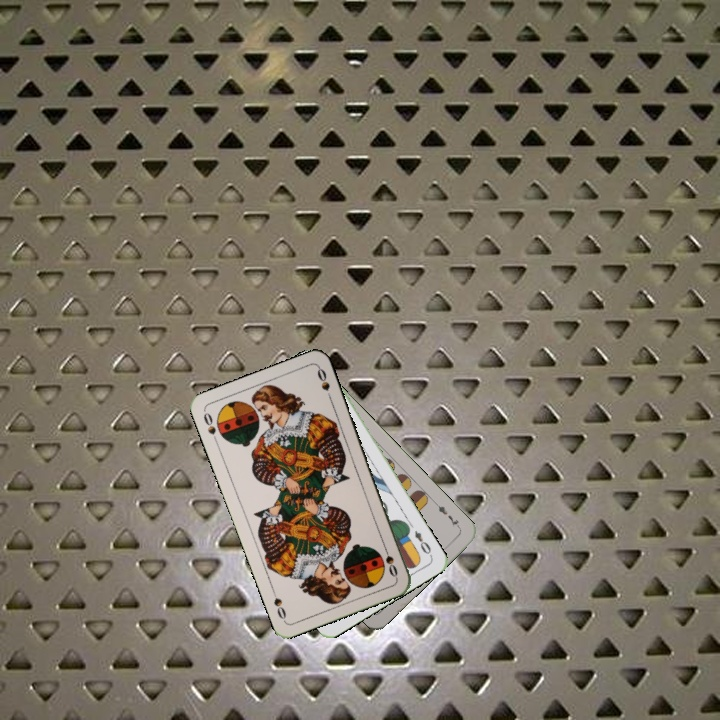E7: (431, 498, 463, 531)
EO: (410, 527, 435, 559)
SO: (199, 408, 221, 446), (379, 541, 400, 580)
